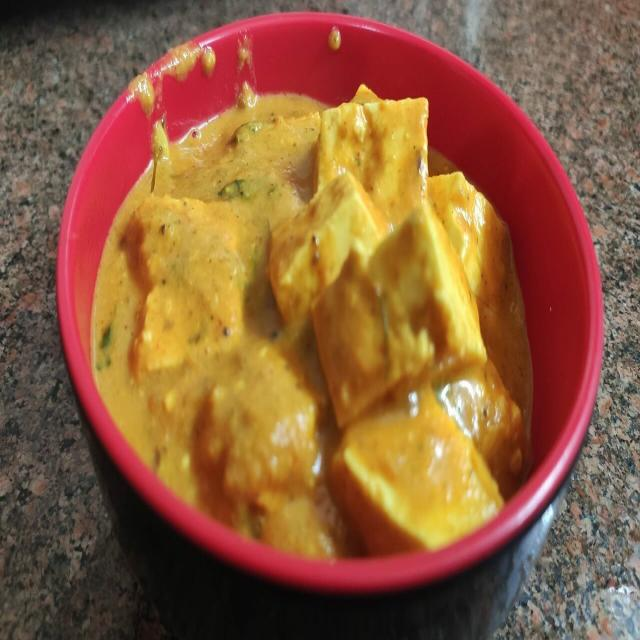ShahiPaneer: (93, 84, 533, 559)
